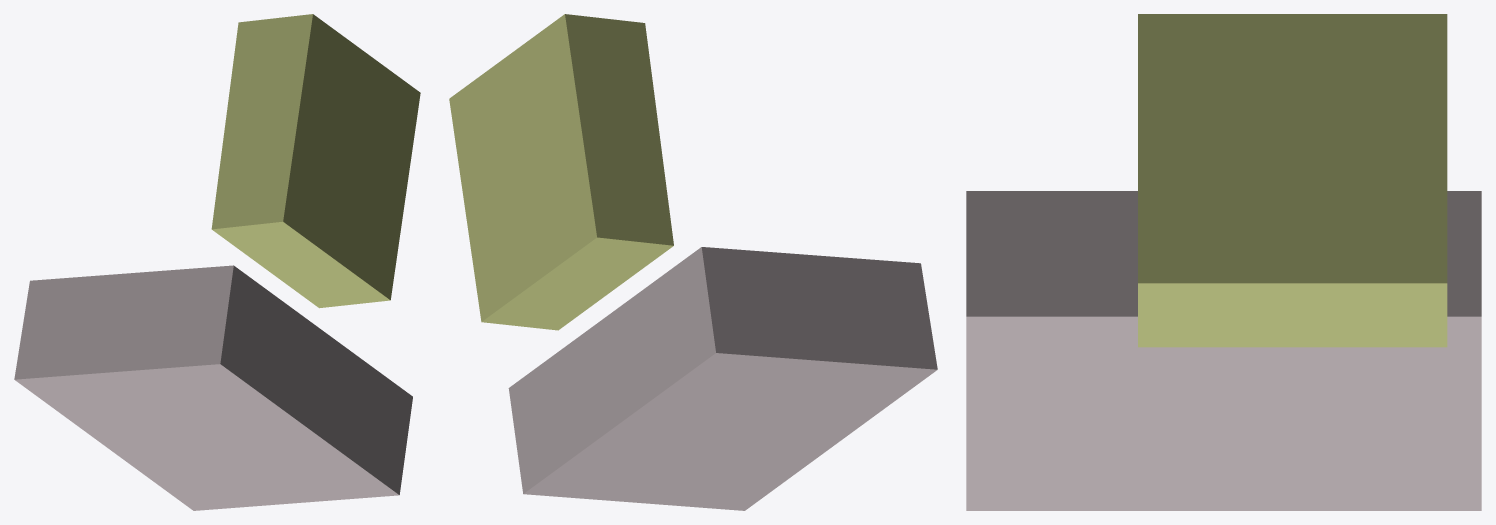
3 renders of one model, left to right at view 1: azimuth 30°, elevation 25°; view 2: azimuth 150°, elevation 25°; view 3: azimuth 270°, elevation 25°, orthographic. The views are drawn at different scales.
Parts seen in each view (by area): view 1: 0_0_1_2_0_0_0_2_1_3; view 2: 0_0_1_2_0_0_0_2_1_3; view 3: 0_0_1_2_0_0_0_2_1_3.
Boxes of the visible parts, x1,y1,x2,y2 form: 0_0_1_2_0_0_0_2_1_3: (14, 14, 420, 510); 0_0_1_2_0_0_0_2_1_3: (449, 14, 937, 510); 0_0_1_2_0_0_0_2_1_3: (966, 14, 1481, 510).
Size of the model in its own units: 13.85 by 16.1 by 15.
